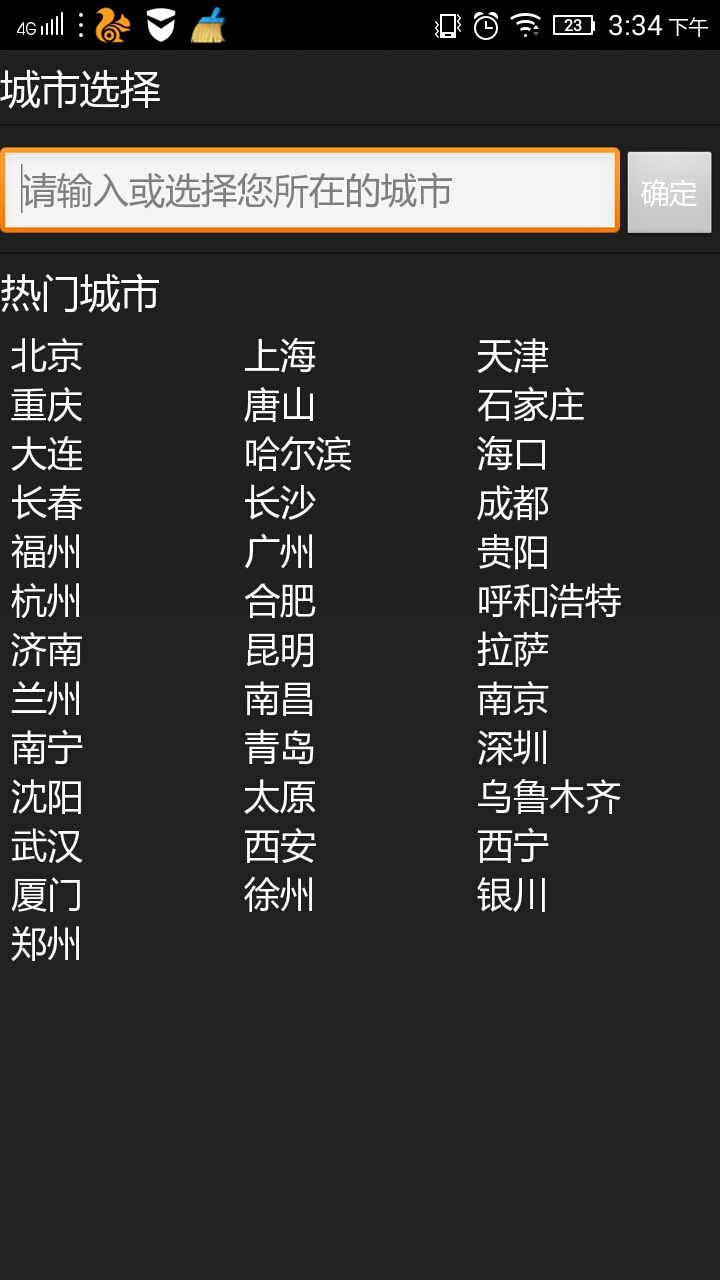button: (619, 144, 720, 244)
textview: (11, 267, 644, 1001)
